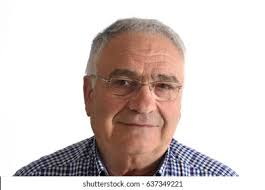person: (82, 17, 185, 159)
